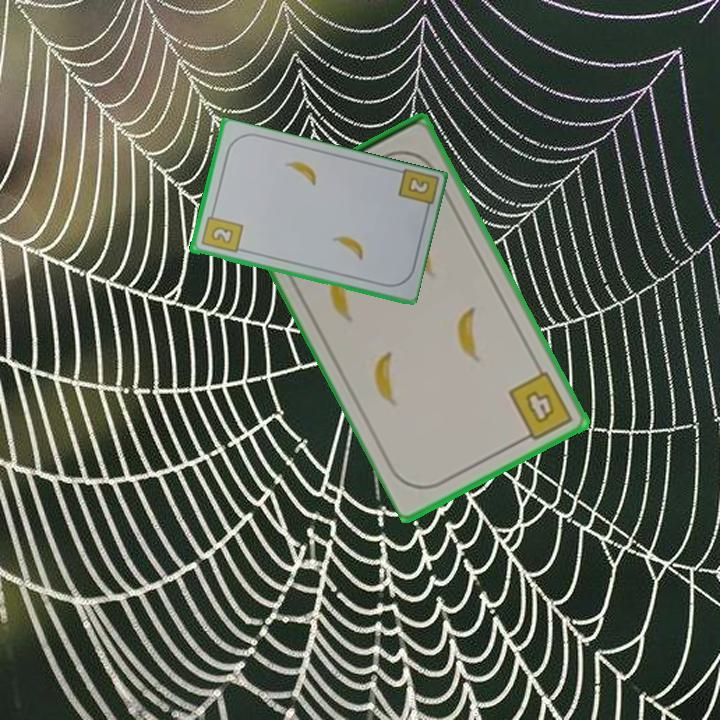2b: (198, 207, 245, 256), (404, 174, 432, 198)
4b: (505, 368, 576, 445)
